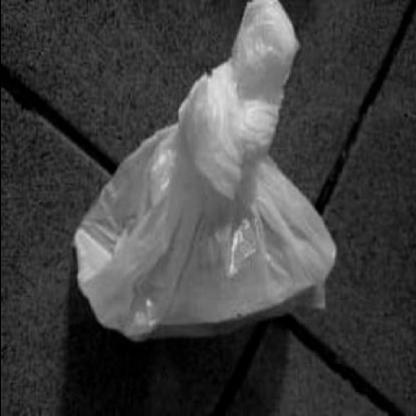objects: (70, 0, 334, 342)
